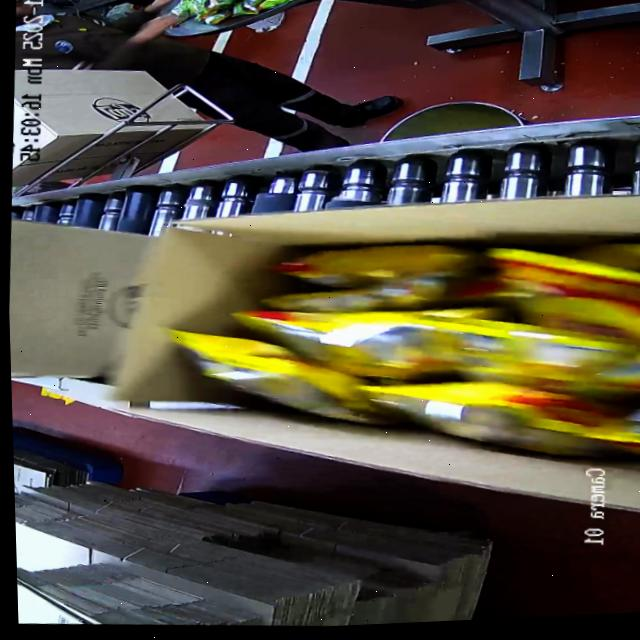SALTED: (181, 215, 640, 479)
